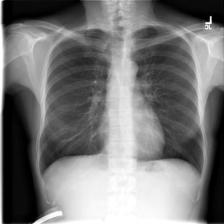normal: (36, 20, 208, 182)
